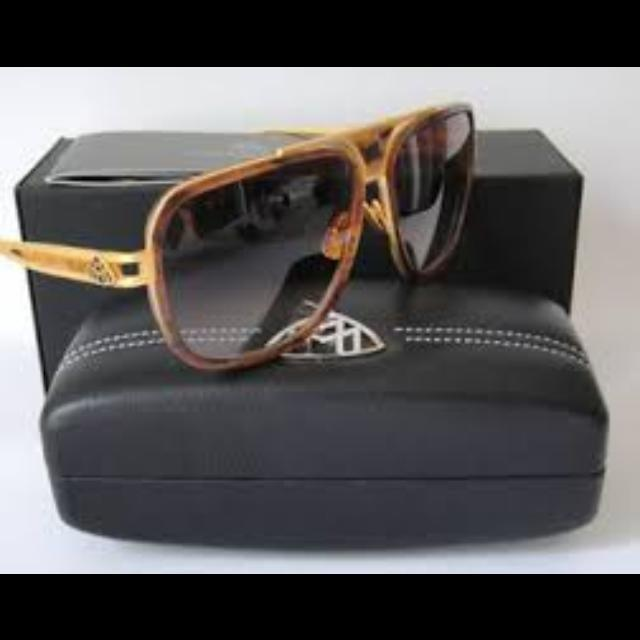glasses: (0, 97, 478, 371)
